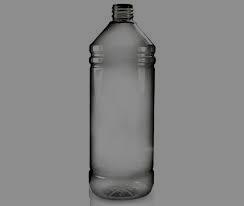Plastic: (87, 0, 158, 200)
